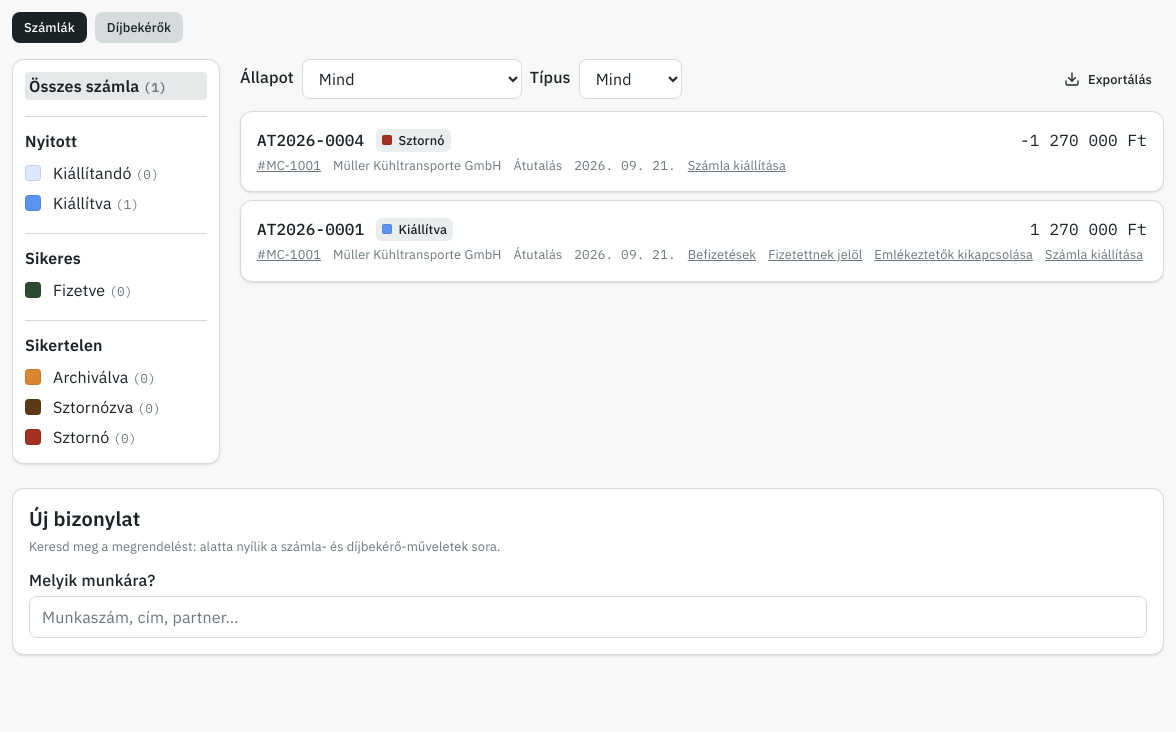
it: Számlázó page › the kind filter narrows the history
Expected: the text "AT2026-0001" is shown, [257,217,364,241]
Select "Sztornó" in the dropdown labelled "Típus" at (630, 79), box [579,59,682,99]
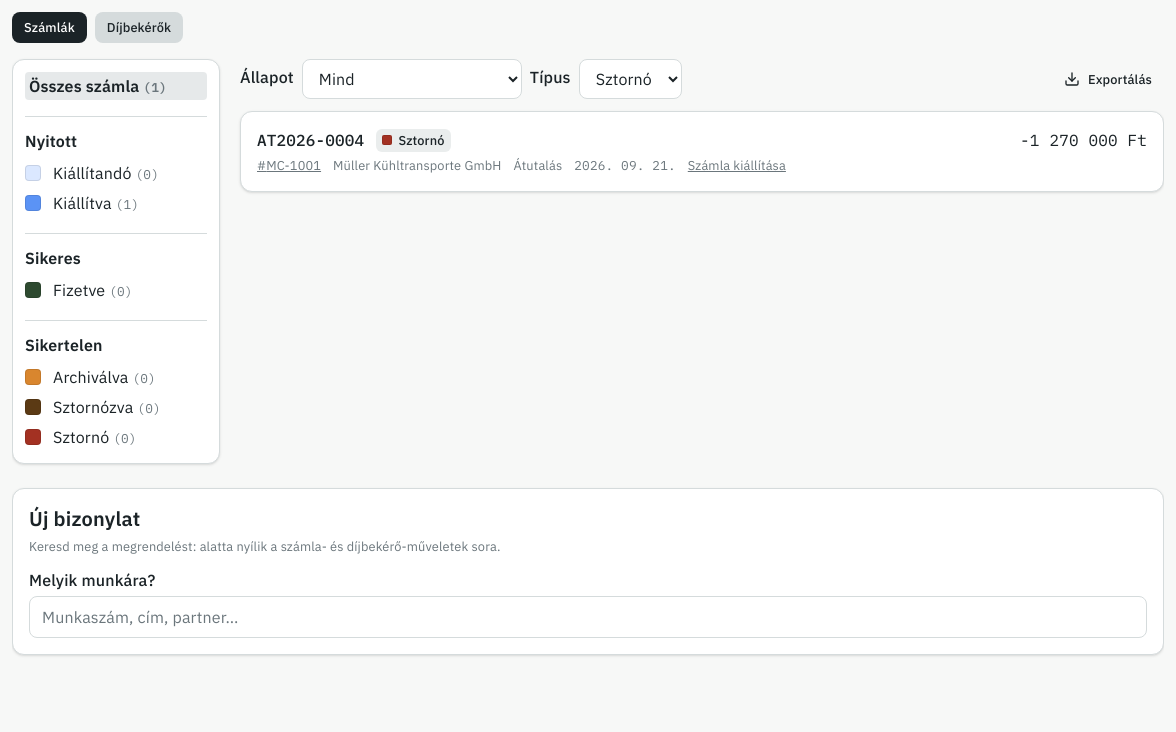
Expected: the text "AT2026-0004" is shown, [257,128,364,152]
Expected: the text "AT2026-0001" is gone
